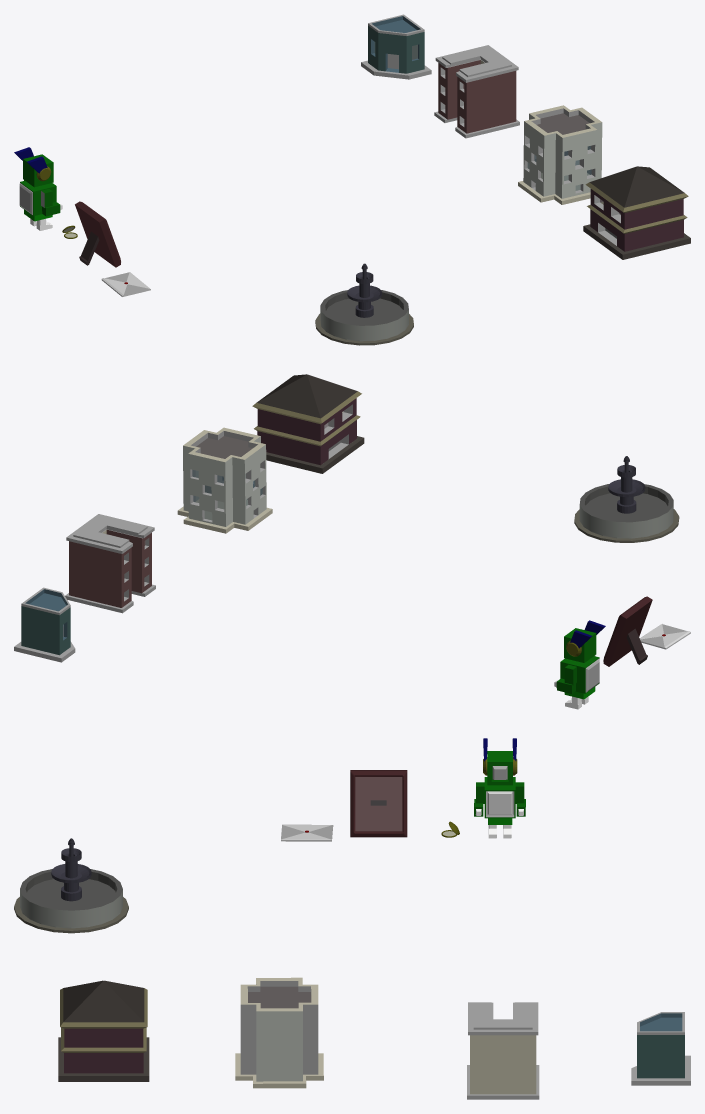
Rendered from Fbx assets.fbx.
The picture shows the model from 3 angles, top to bottom: view 1: azimuth 30°, elevation 25°; view 2: azimuth 150°, elevation 25°; view 3: azimuth 270°, elevation 25°; orthographic projection. The views are drawn at different scales.
Parts seen in each view (by area): view 1: Hall, Hospital, Building1, Fountain, SmallHouse, polySurface9, PictureFrame, polySurface10; view 2: Hall, Hospital, Building1, Fountain, SmallHouse, polySurface9, PictureFrame, polySurface10; view 3: Hall, Hospital, Fountain, Building1, PictureFrame, SmallHouse, polySurface9, polySurface10.
Boxes of the visible parts, box(x1,y1,x2,y2) form: Hall: box(583, 166, 690, 259); Hospital: box(518, 105, 602, 204); Building1: box(434, 45, 519, 138); Fountain: box(315, 263, 413, 345); SmallHouse: box(361, 14, 431, 79); polySurface9: box(14, 147, 62, 230); PictureFrame: box(75, 201, 120, 267); polySurface10: box(101, 272, 150, 296); Hall: box(252, 374, 364, 473); Hospital: box(177, 427, 272, 533); Building1: box(65, 514, 155, 613); Fountain: box(574, 456, 679, 542); SmallHouse: box(14, 587, 75, 662); polySurface9: box(554, 620, 605, 709); PictureFrame: box(603, 596, 652, 666); polySurface10: box(640, 624, 690, 649); Hall: box(58, 980, 149, 1081); Hospital: box(235, 977, 323, 1088); Fountain: box(14, 838, 128, 933); Building1: box(467, 1002, 539, 1099); PictureFrame: box(350, 770, 407, 837); SmallHouse: box(631, 1012, 690, 1085); polySurface9: box(474, 738, 525, 838); polySurface10: box(281, 824, 333, 841).
Bounding box in the file's own units: 18.18 × 2.98 × 19.
